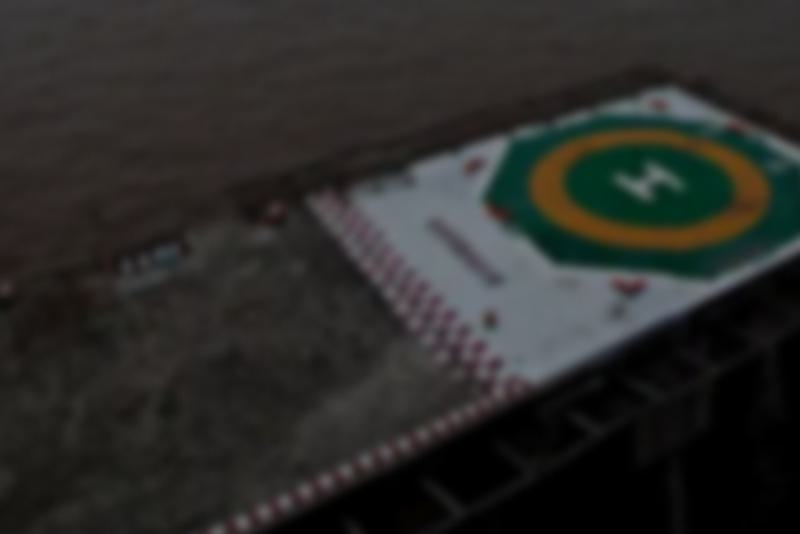Apron: (526, 120, 768, 253)
